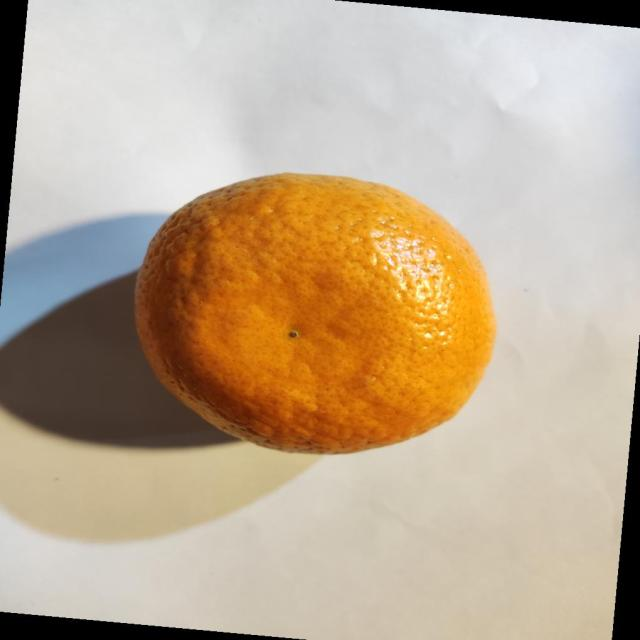fresh orange: (133, 170, 497, 456)
